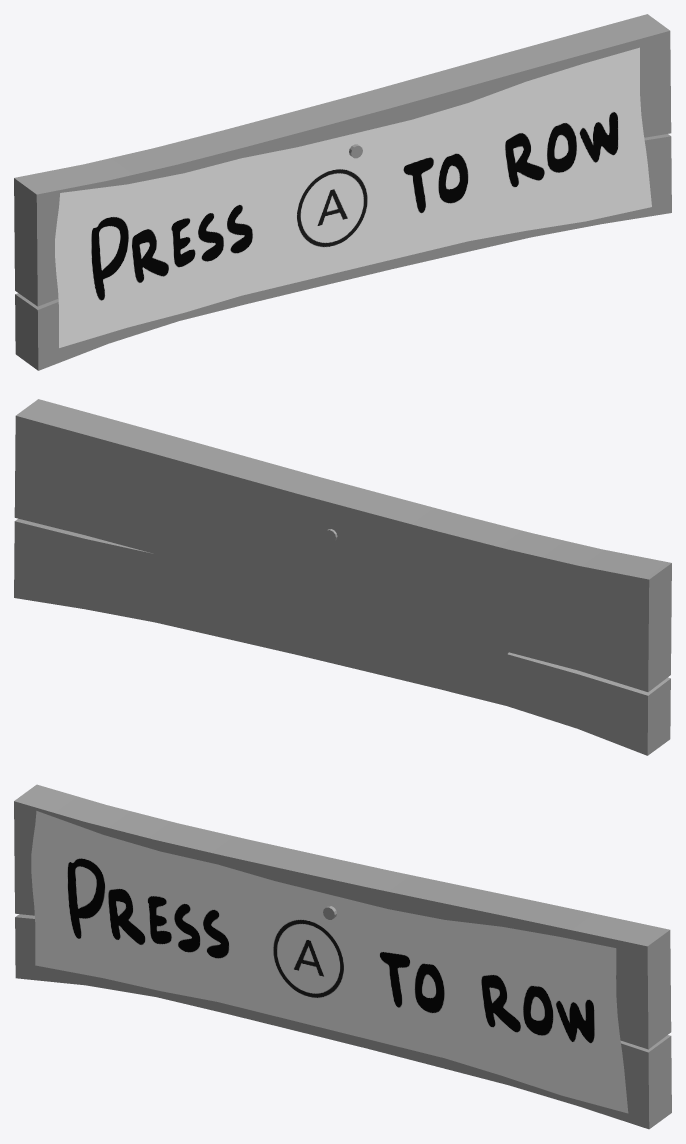
Rendered from press-A.fbx.
3 views of the same model, one above another, from view 1: azimuth 30°, elevation 25°; view 2: azimuth 150°, elevation 25°; view 3: azimuth 330°, elevation 25° (orthographic).
Visible parts, largest first — view 1: pPlane4, pCube213; view 2: pCube213; view 3: pPlane4, pCube213.
Part boxes in pixels (x1,y1,x2,y2): pPlane4: [55, 47, 651, 347]; pCube213: [14, 14, 671, 370]; pCube213: [14, 399, 671, 755]; pPlane4: [31, 811, 628, 1113]; pCube213: [14, 784, 671, 1129].
Size of the model in its own units: 5.36 by 1.5 by 0.3945.
